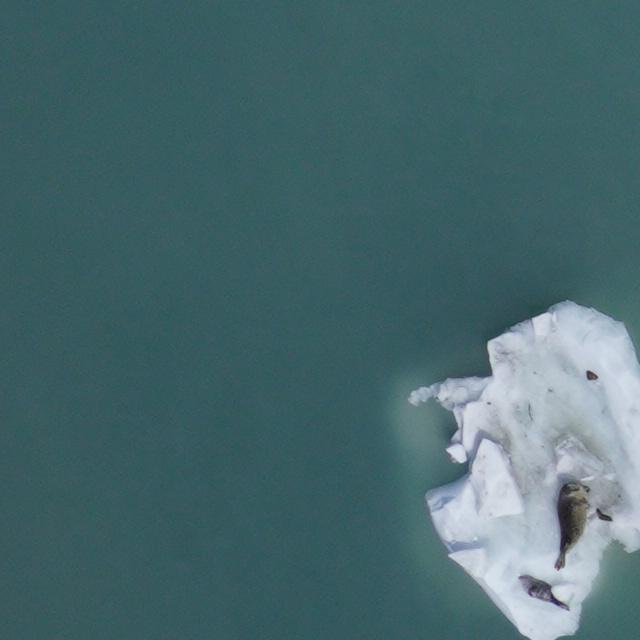seal: (541, 479, 597, 575), (513, 571, 577, 615)
